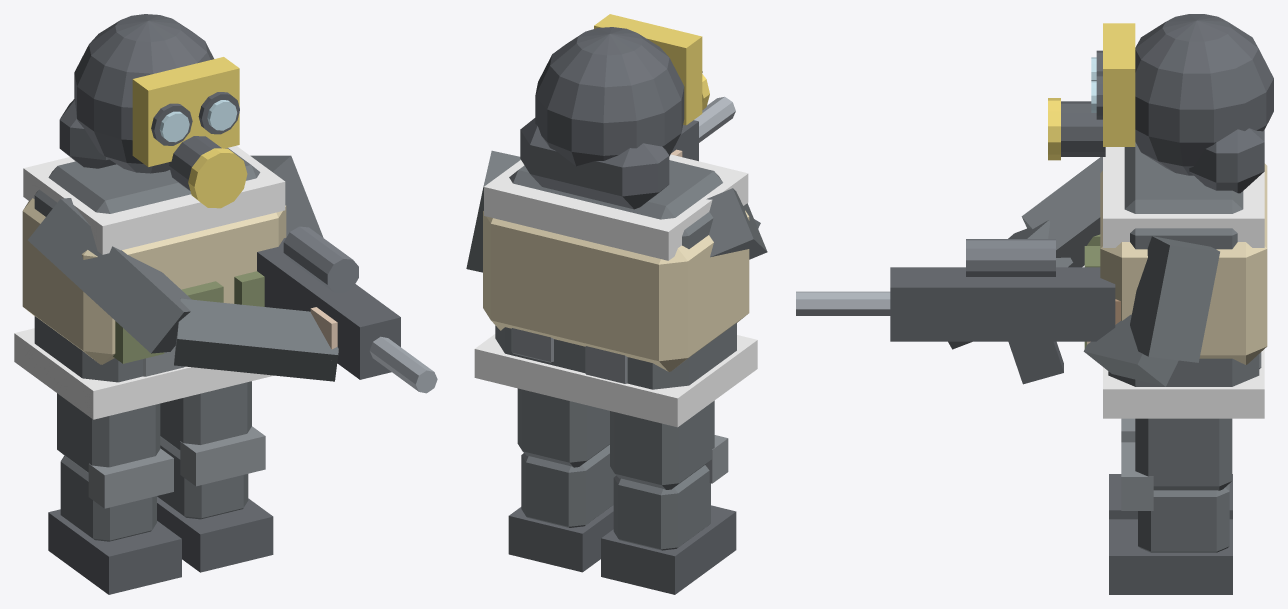
Rendered from ranger@toxico.glb.
3 renders of one model, left to right at view 1: azimuth 30°, elevation 25°; view 2: azimuth 150°, elevation 25°; view 3: azimuth 270°, elevation 25°, orthographic. The views are drawn at different scales.
Parts seen in each view (by area): view 1: main, shinl, shinr, legl, legr; view 2: main, shinl, shinr, legl, legr; view 3: main, shinr, legr, shinl.
Part boxes in pixels (x1=…): main: x1=14, y1=14, x2=437, y2=419; shinl: x1=48, y1=448, x2=181, y2=594; shinr: x1=157, y1=426, x2=273, y2=572; legl: x1=57, y1=393, x2=160, y2=472; legr: x1=160, y1=381, x2=251, y2=450; main: x1=466, y1=14, x2=767, y2=427; shinl: x1=601, y1=435, x2=736, y2=594; shinr: x1=508, y1=444, x2=615, y2=572; legl: x1=610, y1=400, x2=714, y2=489; legr: x1=517, y1=388, x2=609, y2=467; main: x1=796, y1=14, x2=1273, y2=418; shinr: x1=1109, y1=442, x2=1232, y2=594; legr: x1=1135, y1=418, x2=1232, y2=490; shinl: x1=1109, y1=418, x2=1232, y2=519.
Bounding box in the file's own units: 0.3161 × 0.5462 × 0.4435.
